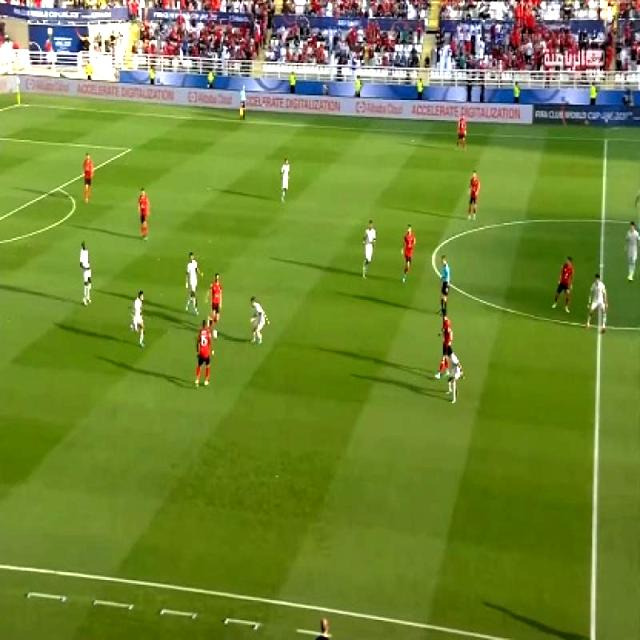bigarea_top_inner: (121, 140, 136, 157)
corner: (11, 96, 26, 108)
halfcircle_bottom: (591, 312, 611, 338)
halfcircle_top: (594, 208, 611, 229)
midline_top_intersection: (598, 128, 612, 148)
top_arc_area_intersection: (50, 178, 64, 196)
